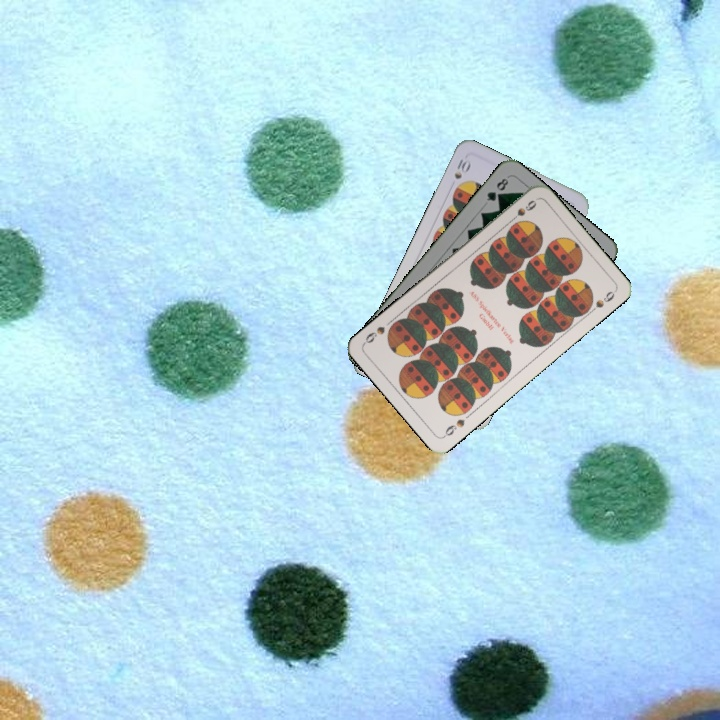G8: (482, 174, 511, 204)
S10: (450, 155, 473, 182)
S9: (505, 196, 539, 226), (439, 415, 467, 440)
